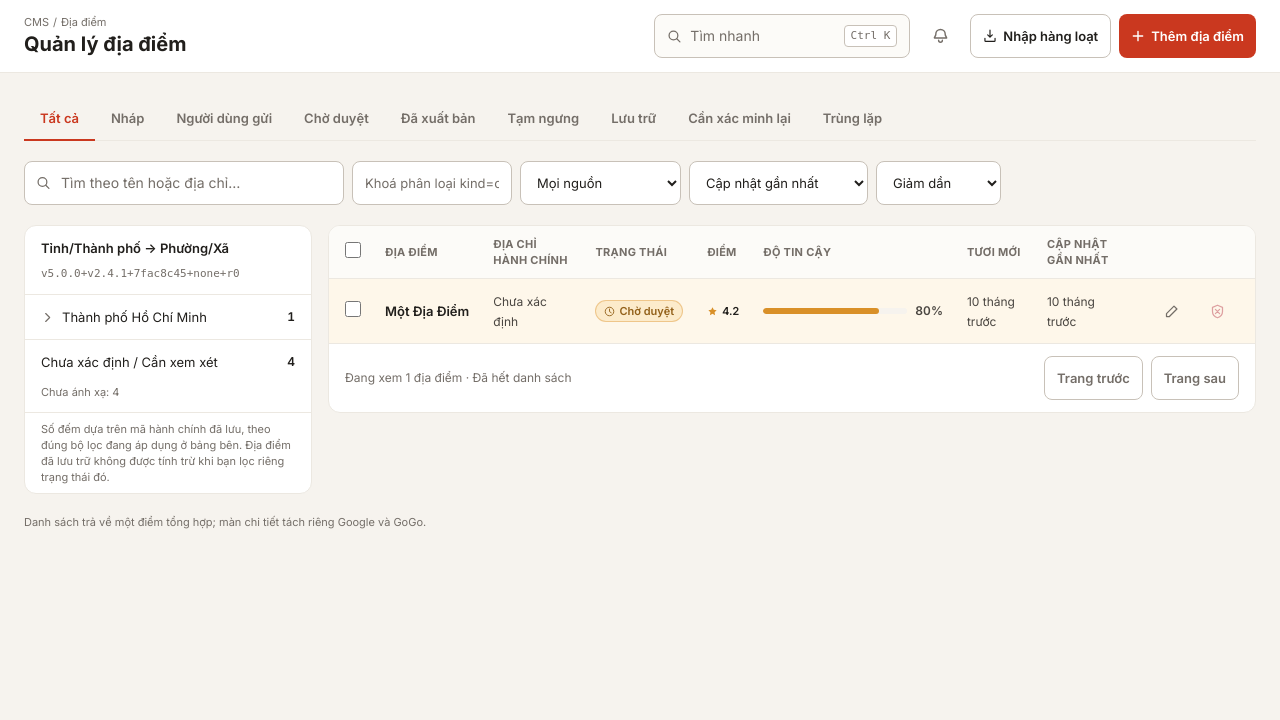
bulk place workflow › from review offers exactly the legal transitions
Click the checkbox named "Một Địa Điểm".
click(353, 308)  # box x1=345 y1=300 x2=361 y2=316
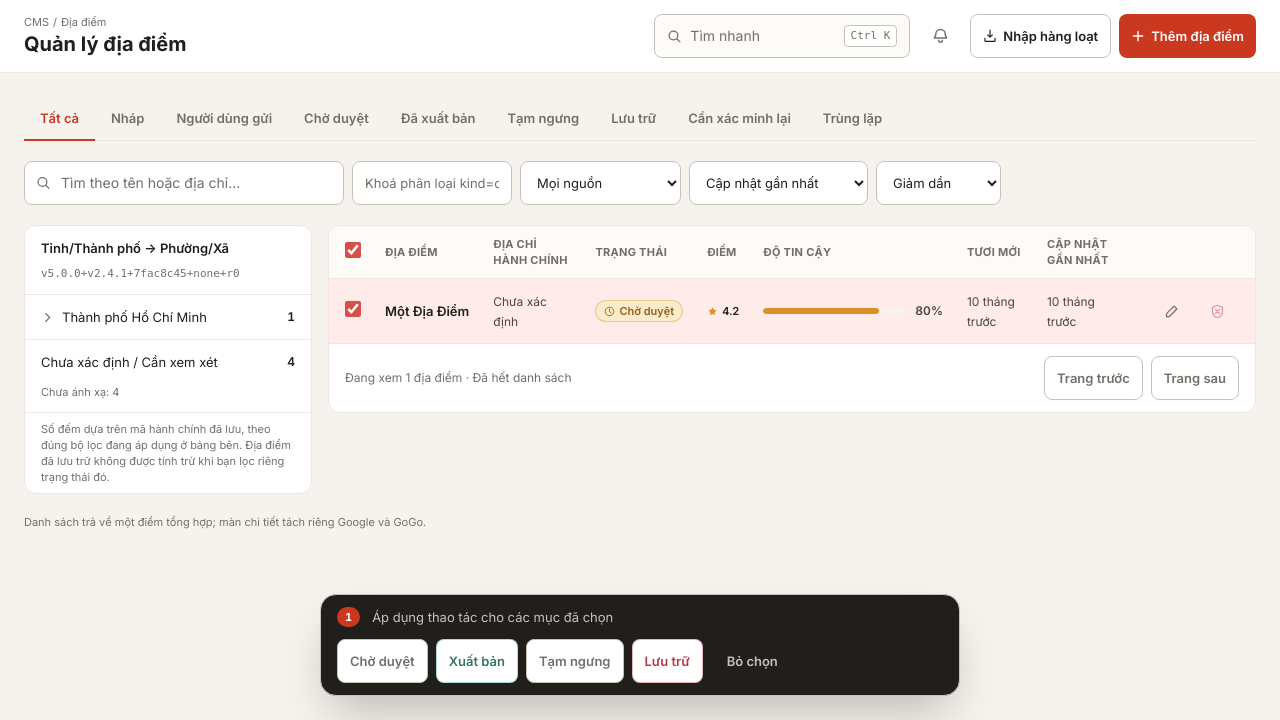
Check: the button "Xuất bản" is enabled, box x1=436 y1=639 x2=518 y2=683
Check: the button "Chờ duyệt" is disabled, box x1=337 y1=639 x2=428 y2=683
Check: the button "Tạm ngưng" is disabled, box x1=526 y1=639 x2=624 y2=683
